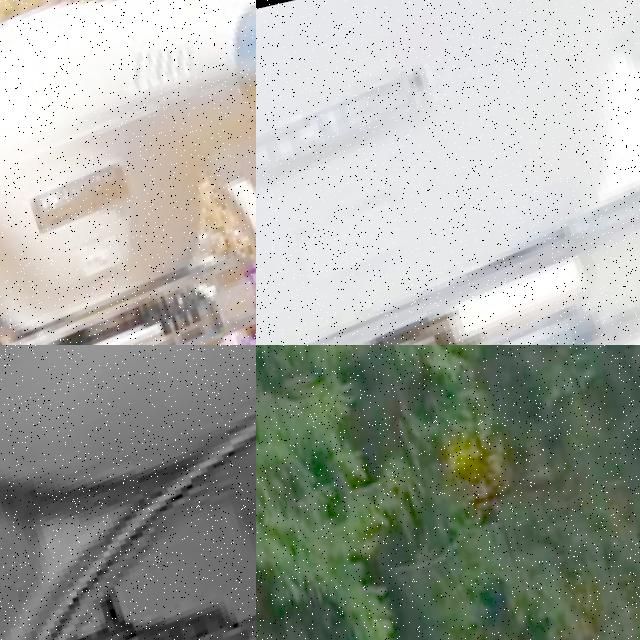0: (0, 0, 256, 345)
drone: (256, 0, 640, 345), (0, 345, 256, 640)
